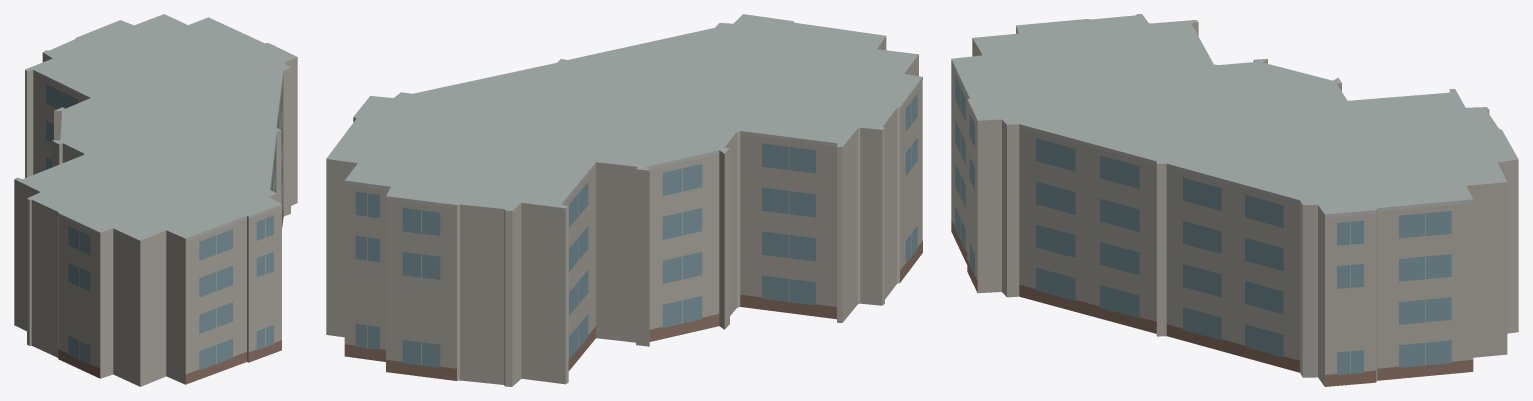
Rendered from survey-upis-32901708.glb.
3 renders of one model, left to right at view 1: azimuth 30°, elevation 25°; view 2: azimuth 150°, elevation 25°; view 3: azimuth 270°, elevation 25°, orthographic. The views are drawn at different scales.
Parts seen in each view (by area): view 1: survey-upis-32901708.tmp; view 2: survey-upis-32901708.tmp; view 3: survey-upis-32901708.tmp.
Boxes of the visible parts, left/top/right/bottom form: survey-upis-32901708.tmp: left=14, top=14, right=297, bottom=386; survey-upis-32901708.tmp: left=326, top=14, right=922, bottom=386; survey-upis-32901708.tmp: left=951, top=14, right=1518, bottom=386.
Size of the model in its own units: 30.4 by 12.2 by 36.38.
